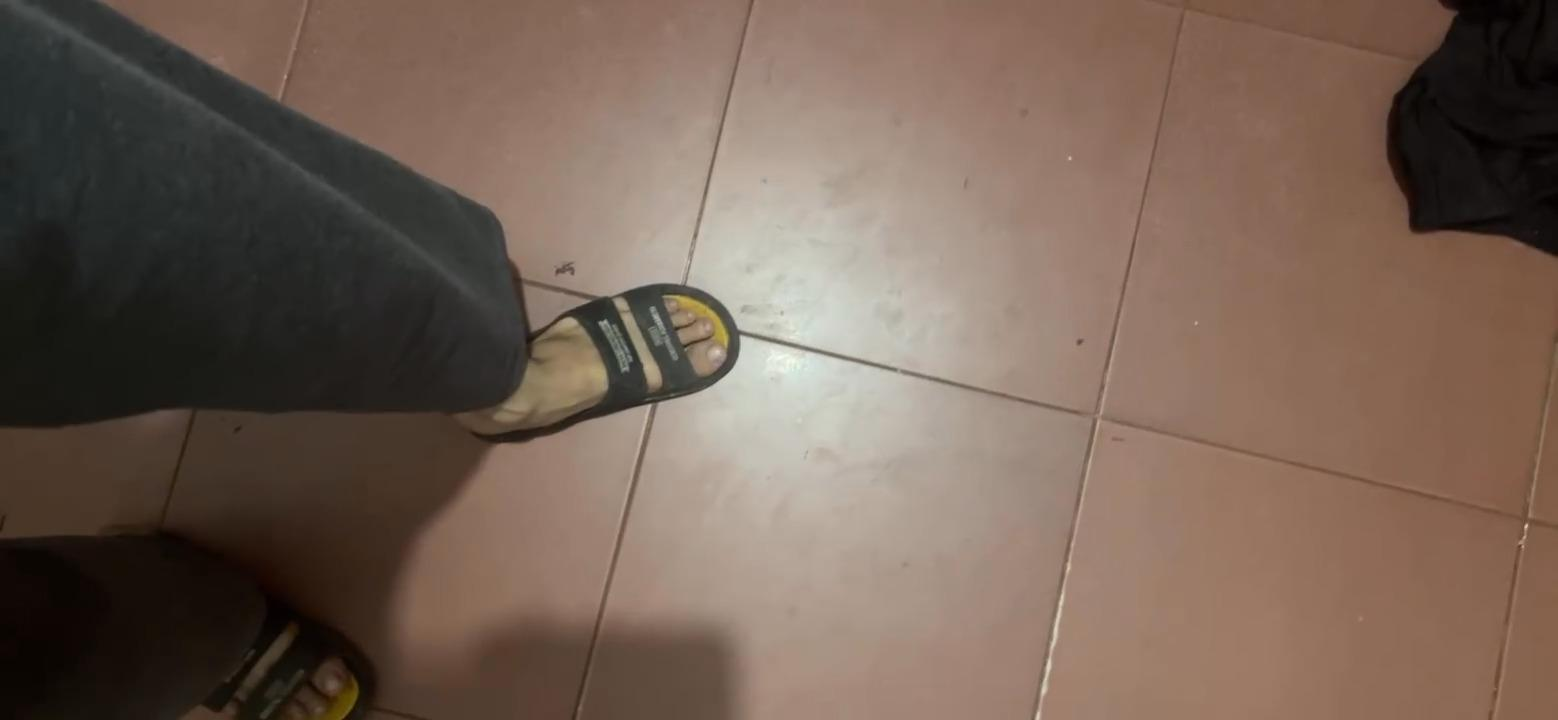no-boot: (457, 263, 729, 449)
